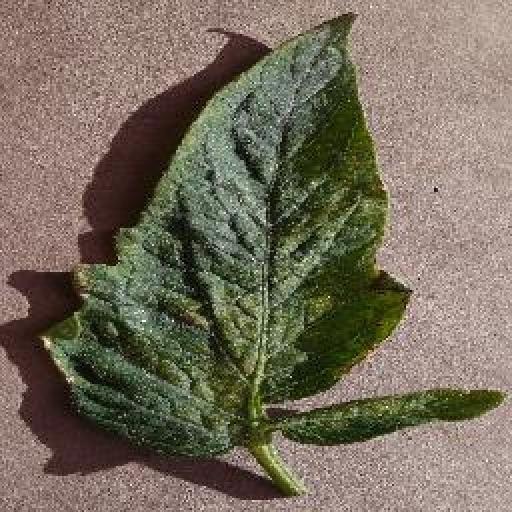Spider Mites: (41, 13, 412, 460), (287, 387, 508, 448)
